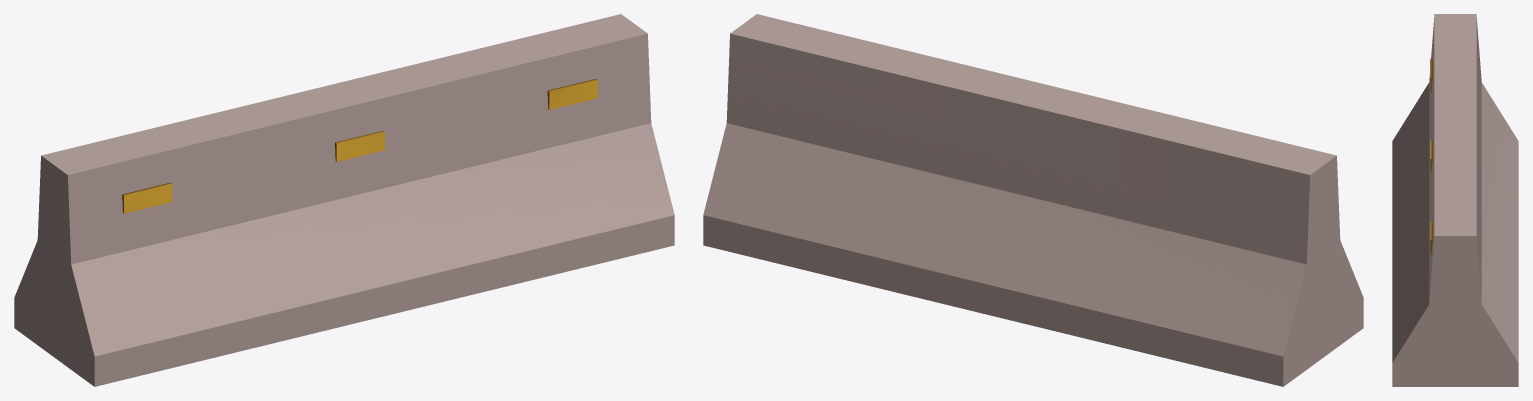
The picture shows the model from 3 angles, left to right: view 1: azimuth 30°, elevation 25°; view 2: azimuth 150°, elevation 25°; view 3: azimuth 270°, elevation 25°; orthographic projection. The views are drawn at different scales.
Parts seen in each view (by area): view 1: body_pal_sidewalk, body_pal_schoolBusYellow; view 2: body_pal_sidewalk; view 3: body_pal_sidewalk, body_pal_schoolBusYellow.
Part boxes in pixels (<box>): body_pal_sidewalk: <box>14,14,674,386</box>; body_pal_schoolBusYellow: <box>122,79,597,213</box>; body_pal_sidewalk: <box>703,14,1363,386</box>; body_pal_sidewalk: <box>1392,14,1518,386</box>; body_pal_schoolBusYellow: <box>1430,59,1432,254</box>.
Size of the model in its own units: 3 by 0.95 by 0.72.
